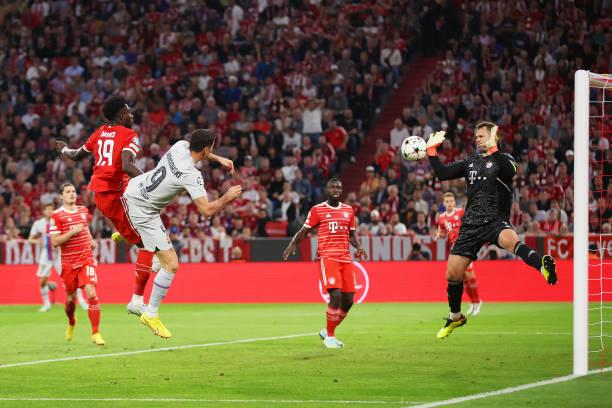Goalkeeper: (427, 122, 557, 338)
Player: (124, 129, 241, 338), (56, 96, 153, 296), (283, 178, 367, 348), (50, 183, 105, 345), (434, 189, 483, 315), (29, 202, 61, 311)
ball: (402, 136, 427, 161)
